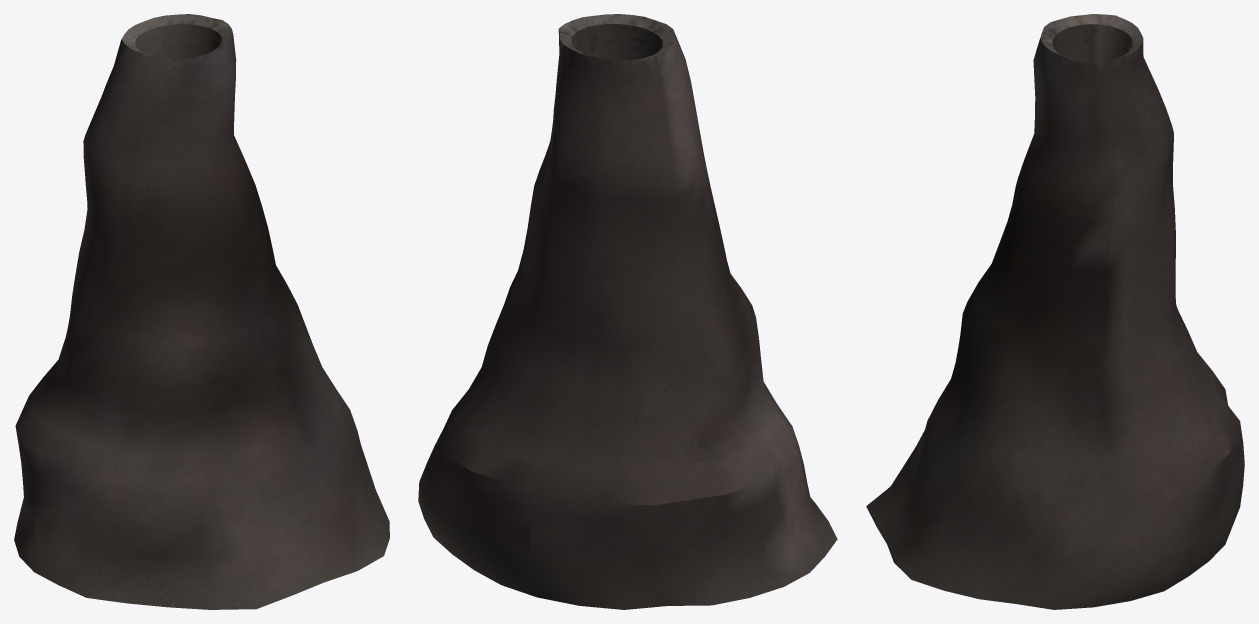
Rendered from vulcanus-chimney-cold.glb.
The picture shows the model from 3 angles, left to right: view 1: azimuth 30°, elevation 25°; view 2: azimuth 150°, elevation 25°; view 3: azimuth 270°, elevation 25°; orthographic projection. The views are drawn at different scales.
Parts seen in each view (by area): view 1: body; view 2: body; view 3: body.
Boxes of the visible parts, bbox=[...] form: body: bbox=[14, 14, 389, 609]; body: bbox=[418, 14, 837, 609]; body: bbox=[866, 14, 1244, 609].
Size of the model in its own units: 2.78 by 3.76 by 2.66.
1 material, 1 textured.
